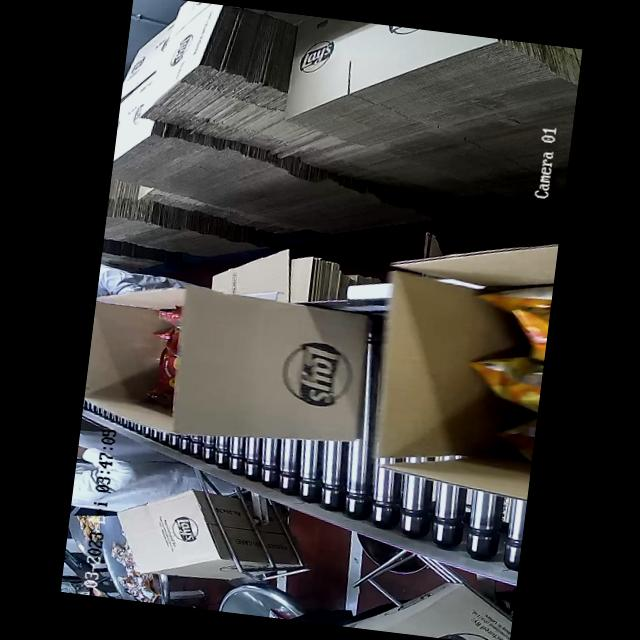cheese: (444, 286, 550, 460)
masala: (137, 290, 192, 402)
